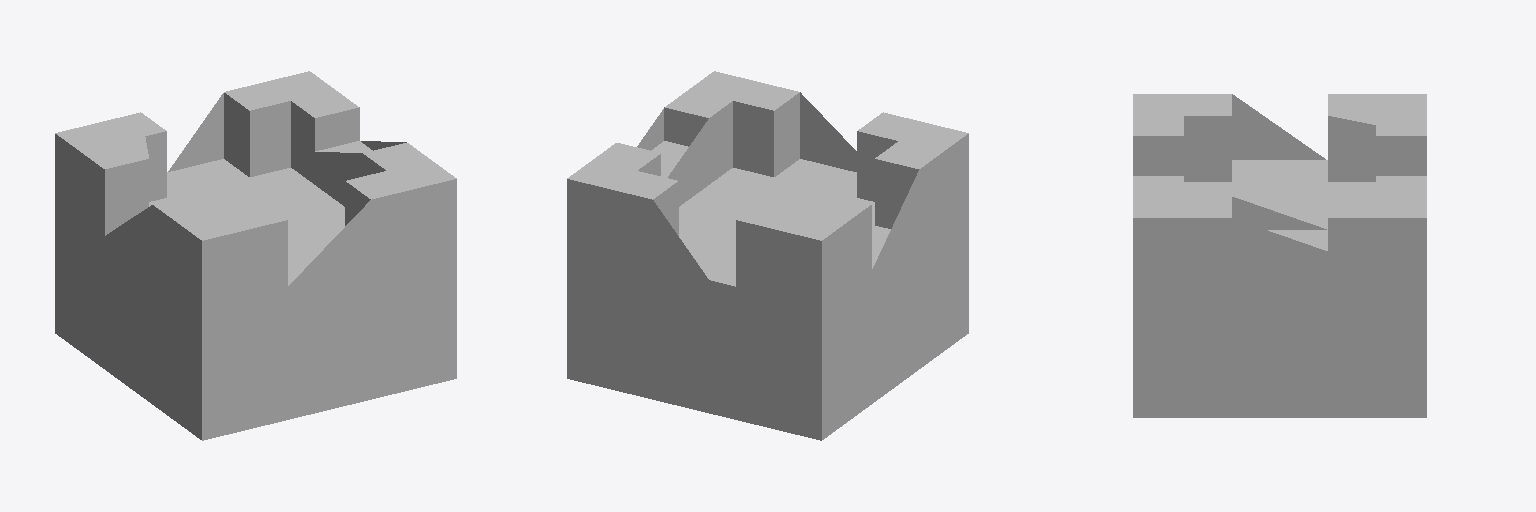
The model's file is tower2.obj.
3 renders of one model, left to right at view 1: azimuth 30°, elevation 25°; view 2: azimuth 150°, elevation 25°; view 3: azimuth 270°, elevation 25°, orthographic.
Parts seen in each view (by area): view 1: Kostka; view 2: Kostka; view 3: Kostka.
Boxes of the visible parts, x1=… form: Kostka: x1=55, y1=71, x2=456, y2=440; Kostka: x1=567, y1=71, x2=968, y2=440; Kostka: x1=1133, y1=94, x2=1426, y2=417.
Bounding box in the file's own units: 2 × 1.5 × 2.